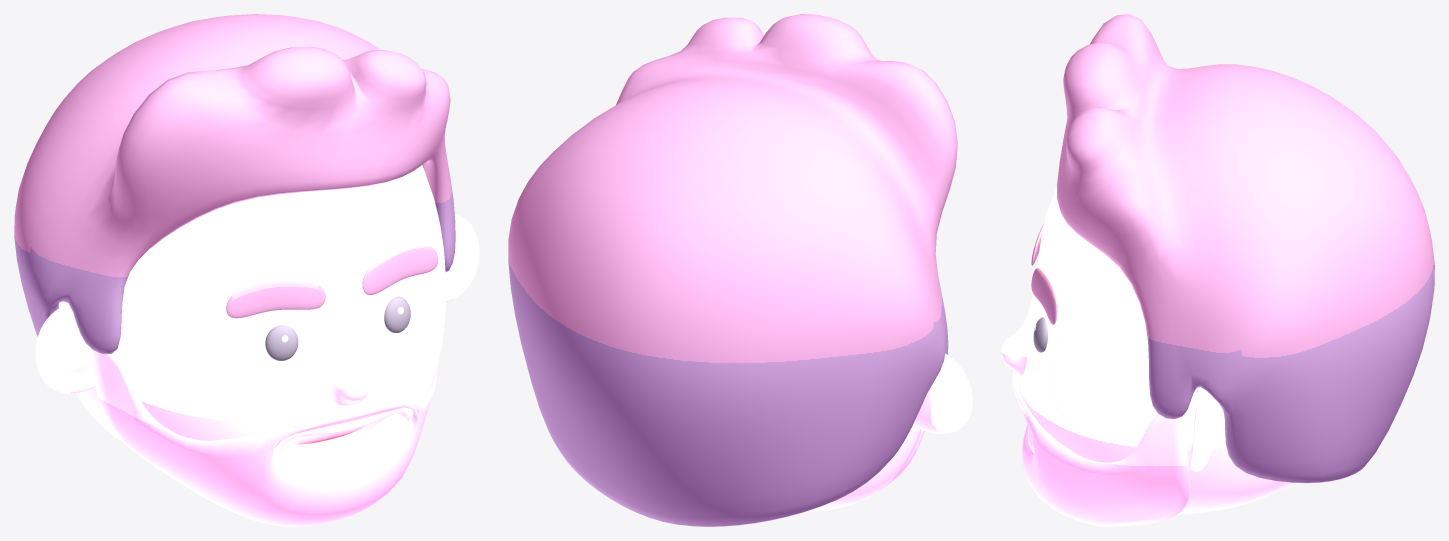
Rendered from portfolio_avatar.glb.
3 renders of one model, left to right at view 1: azimuth 30°, elevation 25°; view 2: azimuth 150°, elevation 25°; view 3: azimuth 270°, elevation 25°, orthographic. The views are drawn at different scales.
Parts seen in each view (by area): view 1: Hair, Head, Beard, Ears, Eyebrows, Eyes; view 2: Hair, Ears, Head; view 3: Hair, Head, Beard, Ears, Eyebrows.
Boxes of the visible parts, x1=… form: Hair: x1=14, y1=14, x2=455, y2=354; Head: x1=58, y1=165, x2=446, y2=471; Beard: x1=92, y1=350, x2=437, y2=526; Ears: x1=35, y1=214, x2=479, y2=393; Eyebrows: x1=226, y1=245, x2=438, y2=318; Eyes: x1=265, y1=296, x2=410, y2=360; Hair: x1=508, y1=14, x2=957, y2=526; Ears: x1=913, y1=353, x2=972, y2=433; Head: x1=805, y1=424, x2=919, y2=511; Hair: x1=1056, y1=14, x2=1434, y2=483; Head: x1=1001, y1=187, x2=1293, y2=514; Beard: x1=1012, y1=370, x2=1190, y2=526; Ears: x1=1190, y1=387, x2=1215, y2=471; Eyebrows: x1=1031, y1=224, x2=1057, y2=324.
Bounding box in the file's own units: 1.35 × 1.38 × 1.19.
